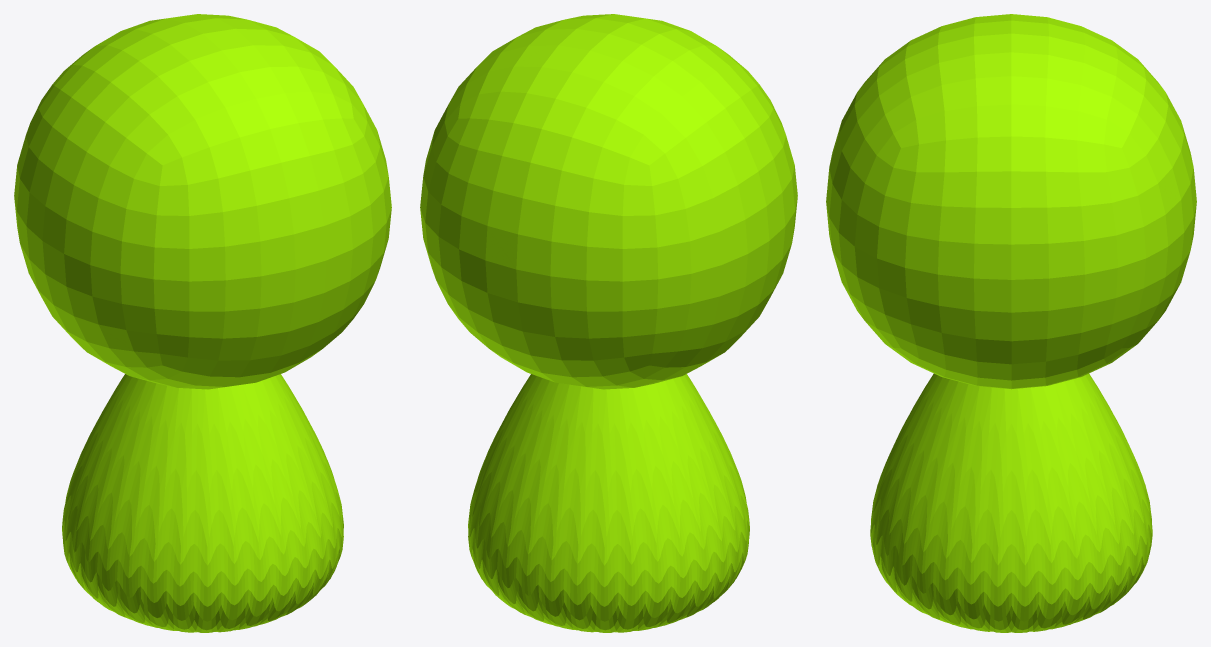
The model's file is Target Yellow.fbx.
The picture shows the model from 3 angles, left to right: view 1: azimuth 30°, elevation 25°; view 2: azimuth 150°, elevation 25°; view 3: azimuth 270°, elevation 25°; orthographic projection.
Visible parts, largest first — view 1: Cube; view 2: Cube; view 3: Cube.
Boxes of the visible parts, x1,y1,x2,y2 form: Cube: (14, 14, 391, 632); Cube: (420, 14, 797, 632); Cube: (826, 14, 1196, 632).
Size of the model in its own units: 168 by 292 by 168.
Materials: 1 (1 with a texture image).
